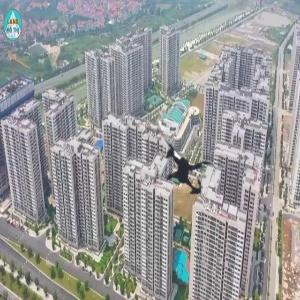drone: (132, 113, 241, 222)
